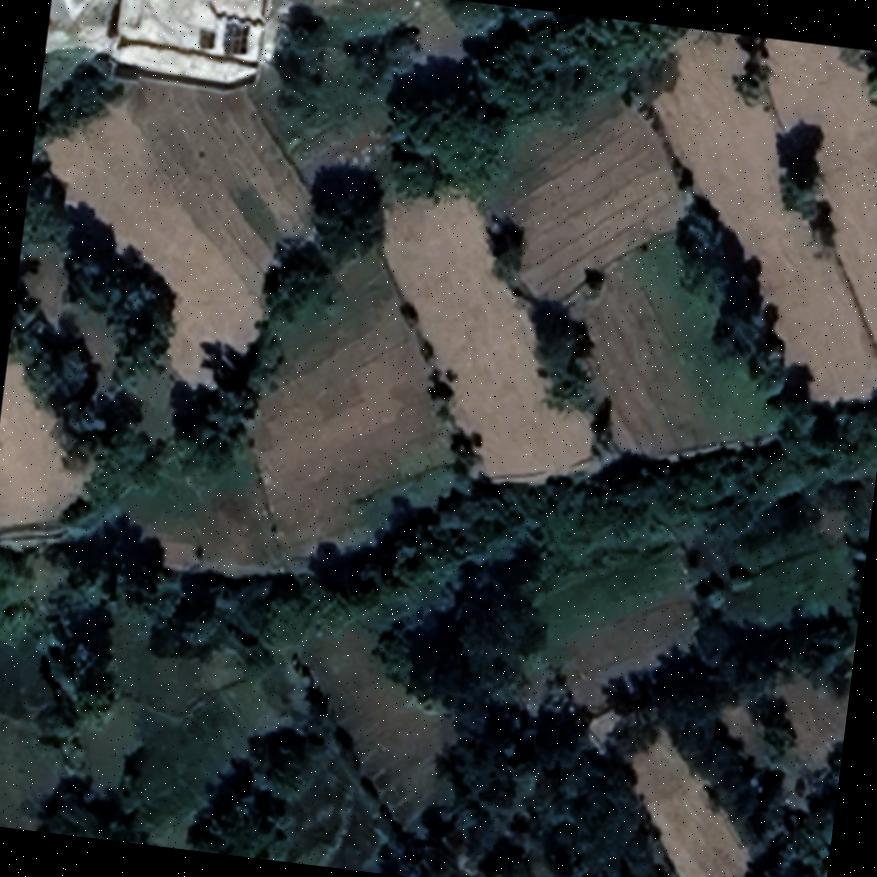Solarpanel: (220, 22, 248, 56)
